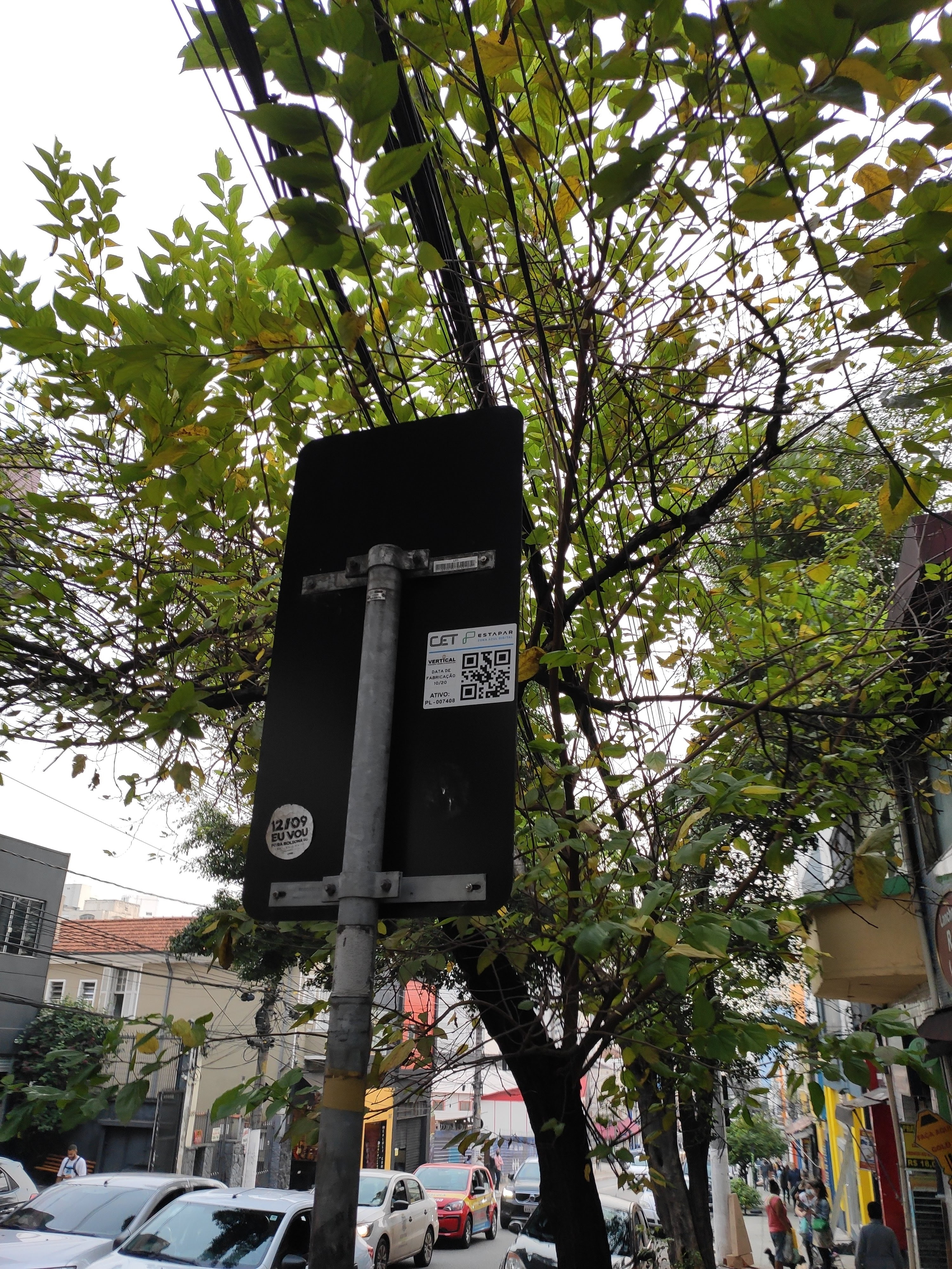QR-CODE: (460, 649, 511, 701)
